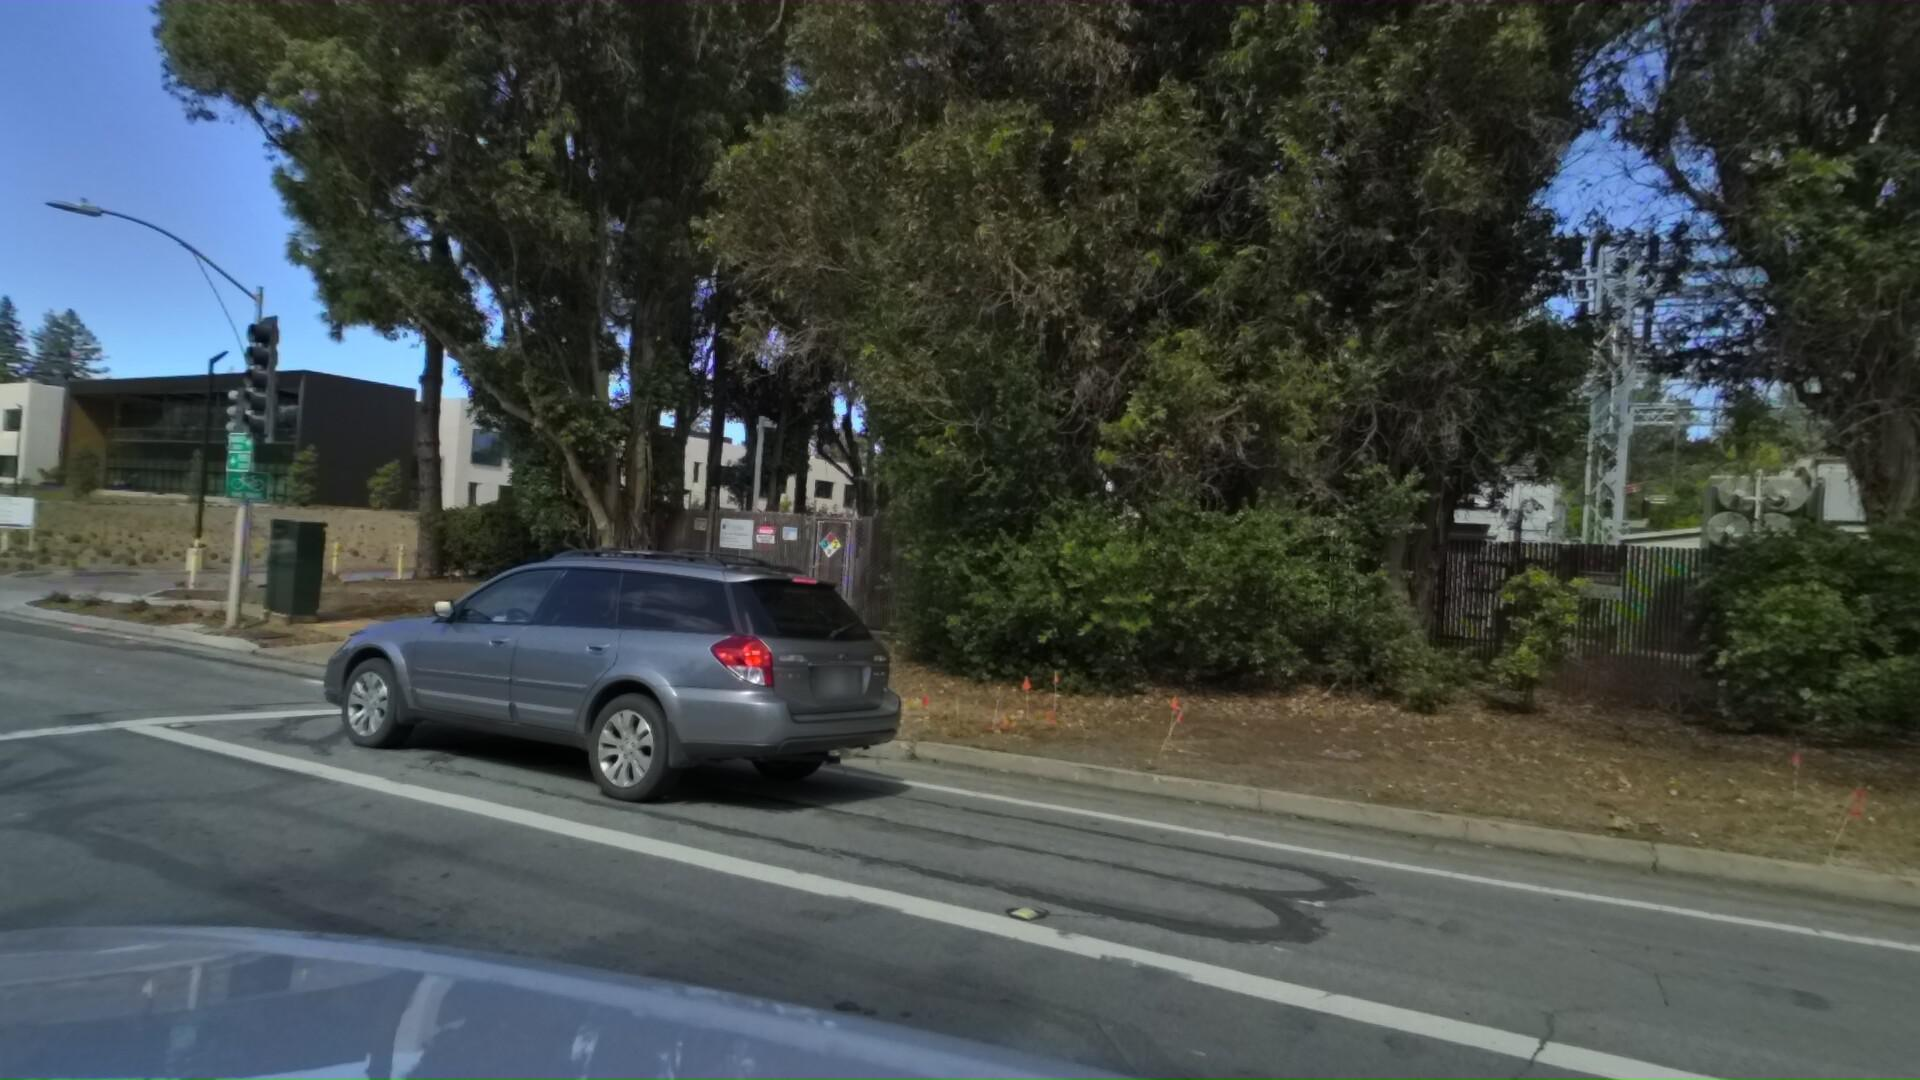car: (243, 510, 926, 866)
